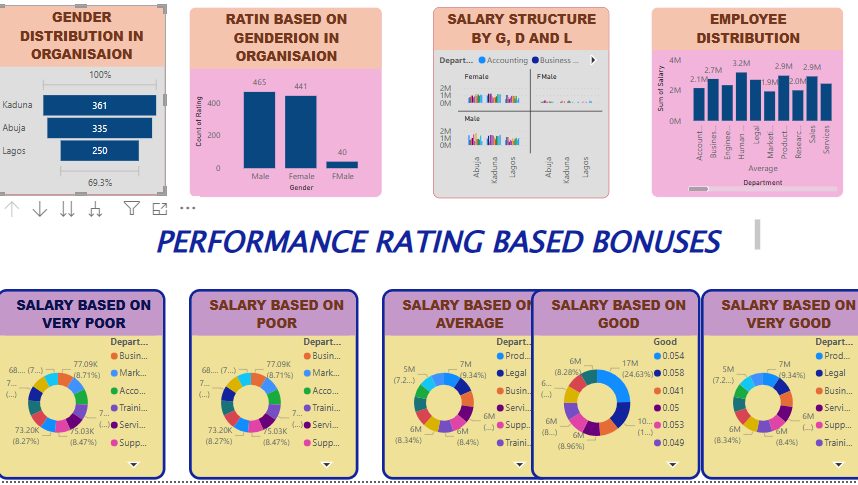

The dashboard page shown, as its layout file describes it:
{"tool":"powerbi","page":{"name":"Page 1","canvas":[1280,720],"ordinal":0},"visuals":[{"type":"funnel","title":"GENDER DISTRIBUTION IN ORGANISAION","fields":{"Category":["Palmoria Group emp-data.Location","Palmoria Group emp-data.Department"],"Y":["CountNonNull(Palmoria Group emp-data.Gender)"]},"box":[0,22.9,248.4,278.9],"z":0},{"type":"lineClusteredColumnComboChart","title":"SALARY STRUCTURE BY G, D AND L","fields":{"Category":["Palmoria Group emp-data.Location"],"Y":["Sum(Palmoria Group emp-data.Salary)"],"Series":["Palmoria Group emp-data.Department"],"Rows":["Palmoria Group emp-data.Gender"]},"box":[639.5,26.3,257.6,279.5],"z":1000},{"type":"donutChart","title":"SALARY BASED ON VERY GOOD","fields":{"Category":["Palmoria Group emp-data.Department"],"Y":["Sum(Palmoria Group emp-data.Salary)"],"Series":["bonus mapping.Very Good"]},"box":[1031.6,439.4,248.4,278.9],"z":2000},{"type":"textbox","box":[64.4,332.2,1078.5,38],"z":3000},{"type":"textbox","box":[63.9,332.6,1059.1,63.9],"z":4000},{"type":"clusteredColumnChart","title":"RATIN BASED ON GENDERION IN ORGANISAION","fields":{"Category":["Palmoria Group emp-data.Gender"],"Y":["CountNonNull(Palmoria Group emp-data.Rating)"]},"box":[282.7,26.7,282.7,278.9],"z":5000},{"type":"clusteredColumnChart","title":"EMPLOYEE DISTRIBUTION","fields":{"Y":["Sum(Palmoria Group emp-data.Salary)"],"Category":["Palmoria Group emp-data.Rating","Palmoria Group emp-data.Department"]},"box":[958,26.6,282.1,279.4],"z":6000},{"type":"donutChart","title":"SALARY BASED ON VERY POOR","fields":{"Category":["Palmoria Group emp-data.Department"],"Y":["Avg(Palmoria Group emp-data.Salary)"],"Series":["bonus mapping.Very Poor"]},"box":[0,439.4,248.4,278.9],"z":7000},{"type":"donutChart","title":"SALARY BASED ON POOR","fields":{"Category":["Palmoria Group emp-data.Department"],"Y":["Avg(Palmoria Group emp-data.Salary)"],"Series":["bonus mapping.Poor"]},"box":[282.7,439.4,248.4,278.9],"z":8000},{"type":"donutChart","title":"SALARY BASED ON AVERAGE","fields":{"Category":["Palmoria Group emp-data.Department"],"Y":["Sum(Palmoria Group emp-data.Salary)"],"Series":["bonus mapping.Average"]},"box":[565.5,439.4,248.4,278.9],"z":9000},{"type":"donutChart","title":"SALARY BASED ON GOOD","fields":{"Category":["bonus mapping.Good","Palmoria Group emp-data.Department"],"Y":["Sum(Palmoria Group emp-data.Salary)"]},"box":[783.3,439.4,248.4,278.9],"z":10000}]}

Visuals, with their boxes on the page's 1280x720 design canvas (x1, y1, x2, y2). These are canvas units, not pixel positions in the 858x485 screenshot, which may show the page scaled, cropped or inside an application window:
"GENDER DISTRIBUTION IN ORGANISAION" funnel: <box>0,23,248,302</box>
"SALARY STRUCTURE BY G, D AND L" lineClusteredColumnComboChart: <box>640,26,897,306</box>
"SALARY BASED ON VERY GOOD" donutChart: <box>1032,439,1280,718</box>
textbox: <box>64,332,1143,370</box>
textbox: <box>64,333,1123,396</box>
"RATIN BASED ON GENDERION IN ORGANISAION" clusteredColumnChart: <box>283,27,565,306</box>
"EMPLOYEE DISTRIBUTION" clusteredColumnChart: <box>958,27,1240,306</box>
"SALARY BASED ON VERY POOR" donutChart: <box>0,439,248,718</box>
"SALARY BASED ON POOR" donutChart: <box>283,439,531,718</box>
"SALARY BASED ON AVERAGE" donutChart: <box>566,439,814,718</box>
"SALARY BASED ON GOOD" donutChart: <box>783,439,1032,718</box>
